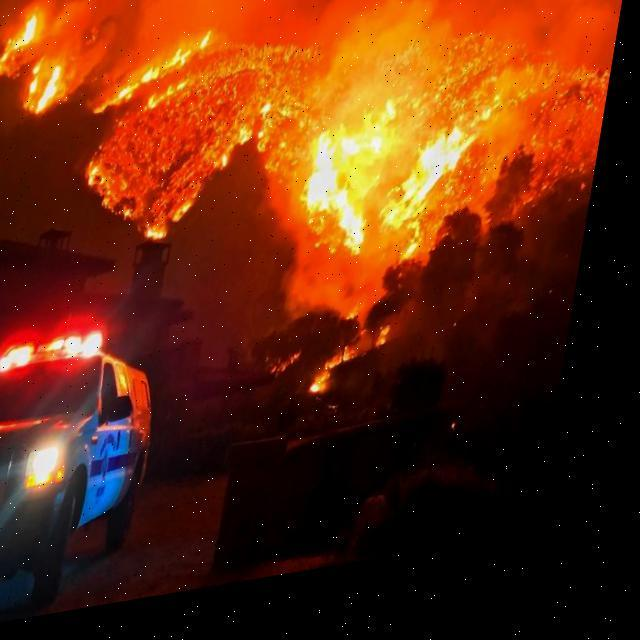Fire: (89, 0, 630, 315), (0, 2, 118, 127)
